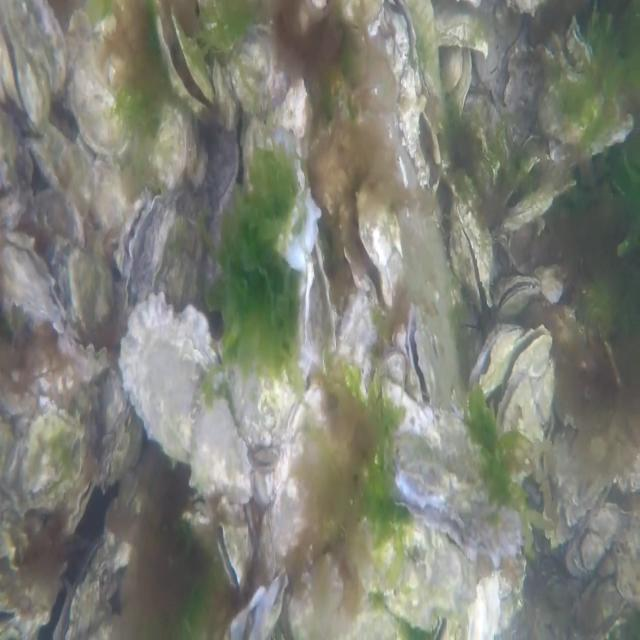Oyster-Closed: (68, 35, 136, 166), (503, 180, 575, 237), (57, 458, 103, 543), (57, 333, 111, 382)
Oyster-Indeterminate: (122, 296, 254, 506), (351, 516, 478, 630), (8, 406, 89, 504), (26, 123, 94, 225), (56, 241, 114, 342), (150, 106, 193, 194)
Oyster-Open: (234, 31, 322, 272), (388, 420, 524, 564), (52, 506, 139, 640), (154, 9, 225, 128), (342, 187, 404, 318), (0, 1, 57, 132), (1, 230, 68, 340), (494, 328, 552, 438), (449, 200, 498, 310), (112, 190, 158, 294), (304, 239, 338, 378), (468, 323, 522, 393), (406, 305, 440, 410), (216, 520, 253, 590), (496, 276, 538, 318)
